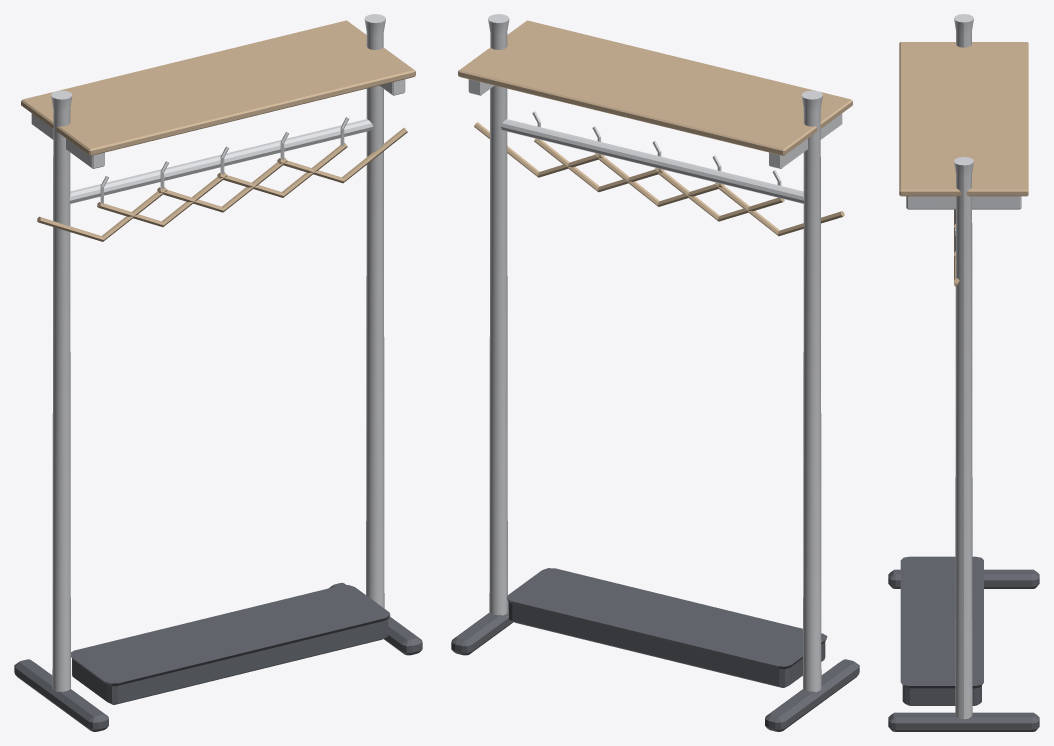
File: downtown-office-interiors-coat-rail-unit-1230ff67__17009.glb
The picture shows the model from 3 angles, left to right: view 1: azimuth 30°, elevation 25°; view 2: azimuth 150°, elevation 25°; view 3: azimuth 270°, elevation 25°; orthographic projection. The views are drawn at different scales.
Visible parts, largest first — view 1: coat-rail-unit; view 2: coat-rail-unit; view 3: coat-rail-unit.
Boxes of the visible parts, x1=… form: coat-rail-unit: x1=14, y1=14, x2=422, y2=731; coat-rail-unit: x1=451, y1=14, x2=859, y2=731; coat-rail-unit: x1=888, y1=14, x2=1039, y2=731.
Size of the model in its own units: 1.11 by 1.74 by 0.42.
